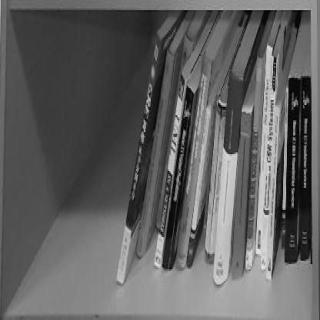book-spine: (116, 29, 162, 283), (174, 56, 213, 270), (136, 47, 175, 256), (212, 69, 244, 285), (153, 71, 187, 268), (162, 85, 195, 269), (186, 106, 212, 267), (260, 54, 279, 270), (246, 54, 264, 269), (255, 44, 273, 255), (232, 111, 252, 278), (201, 92, 219, 250), (204, 103, 222, 259), (285, 77, 300, 262), (209, 107, 226, 264), (266, 104, 281, 281), (299, 76, 312, 259), (281, 88, 288, 247)
